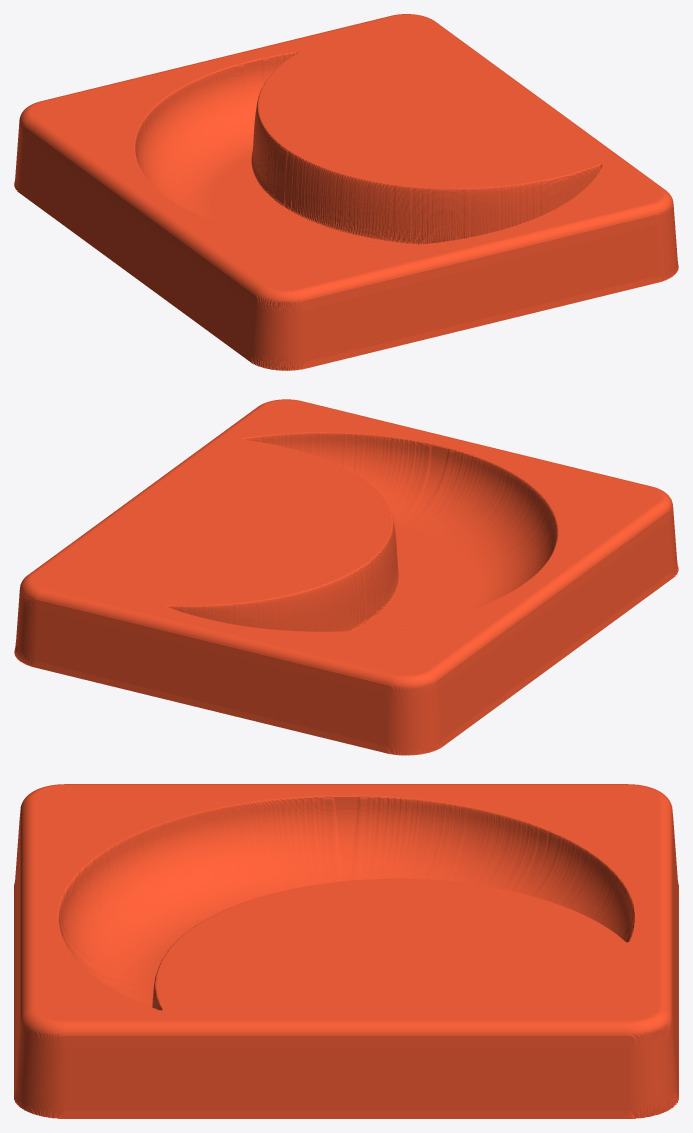
The model's file is mold.glb.
3 views of the same model, one above another, from view 1: azimuth 30°, elevation 25°; view 2: azimuth 150°, elevation 25°; view 3: azimuth 270°, elevation 25° (orthographic). The views are drawn at different scales.
Parts seen in each view (by area): view 1: geometry_0; view 2: geometry_0; view 3: geometry_0.
Part boxes in pixels (<box>): geometry_0: <box>14,14,678,370</box>; geometry_0: <box>14,399,678,755</box>; geometry_0: <box>14,784,678,1118</box>.
Bounding box in the file's own units: 0.1058 × 0.0175 × 0.1178.
